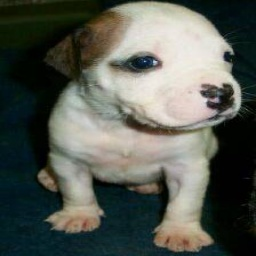dog: (38, 1, 242, 248)
